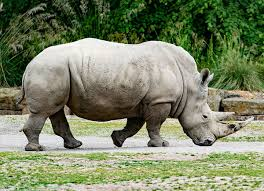Rhinoceros: (12, 34, 257, 152)
